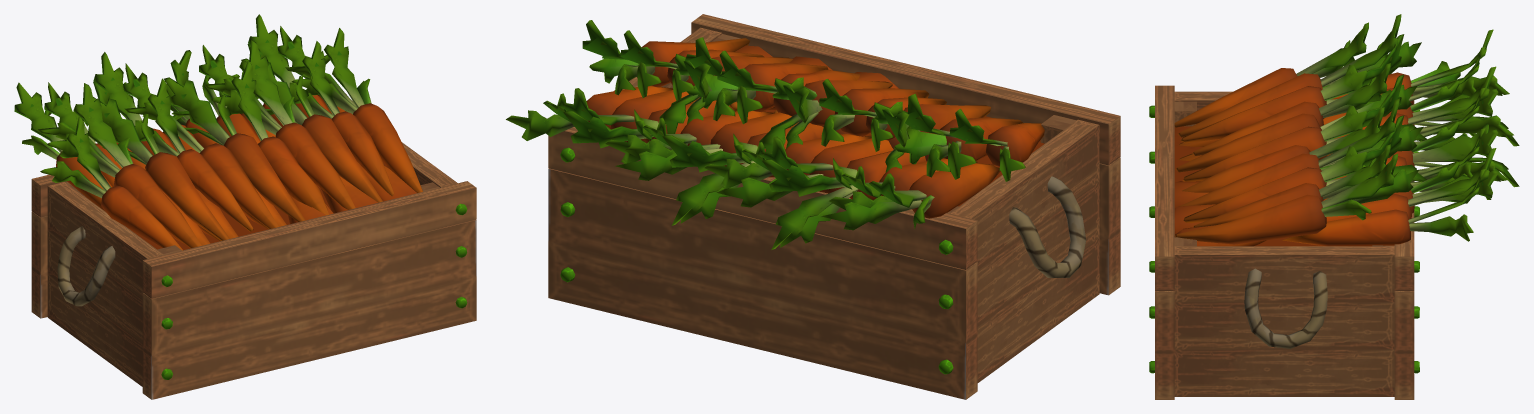
Rendered from farm_crate_carrot.glb.
3 views of the same model, side by side, from view 1: azimuth 30°, elevation 25°; view 2: azimuth 150°, elevation 25°; view 3: azimuth 270°, elevation 25° (orthographic). The views are drawn at different scales.
Visible parts, largest first — view 1: FarmCrate_Carrot; view 2: FarmCrate_Carrot; view 3: FarmCrate_Carrot.
Part boxes in pixels (<box>): FarmCrate_Carrot: <box>14,14,476,399</box>; FarmCrate_Carrot: <box>506,14,1120,399</box>; FarmCrate_Carrot: <box>1149,14,1519,399</box>.
Size of the model in its own units: 0.7138 by 0.4113 by 0.567.
3 materials, 3 textured.
